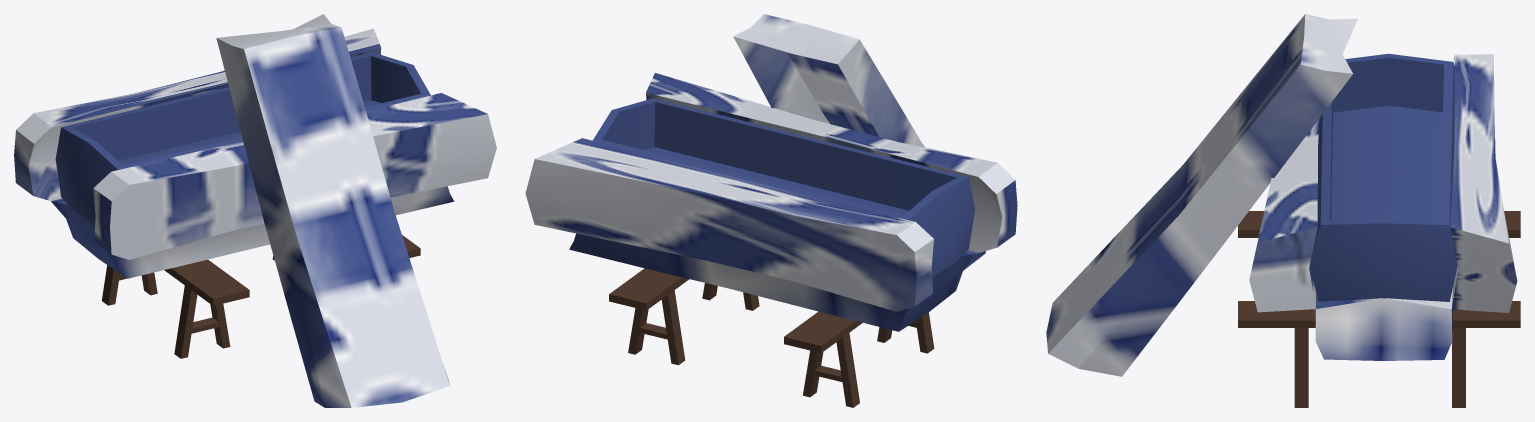
Rendered from coffin open.fbx.
3 renders of one model, left to right at view 1: azimuth 30°, elevation 25°; view 2: azimuth 150°, elevation 25°; view 3: azimuth 270°, elevation 25°, orthographic. The views are drawn at different scales.
Visible parts, largest first — view 1: coffin open; view 2: coffin open; view 3: coffin open.
Part boxes in pixels (box(x1,y1,x2,y2)): coffin open: box(14, 14, 496, 407); coffin open: box(525, 14, 1017, 407); coffin open: box(1046, 14, 1520, 407).
Bounding box in the file's own units: 6.58 × 4.9 × 6.69.
